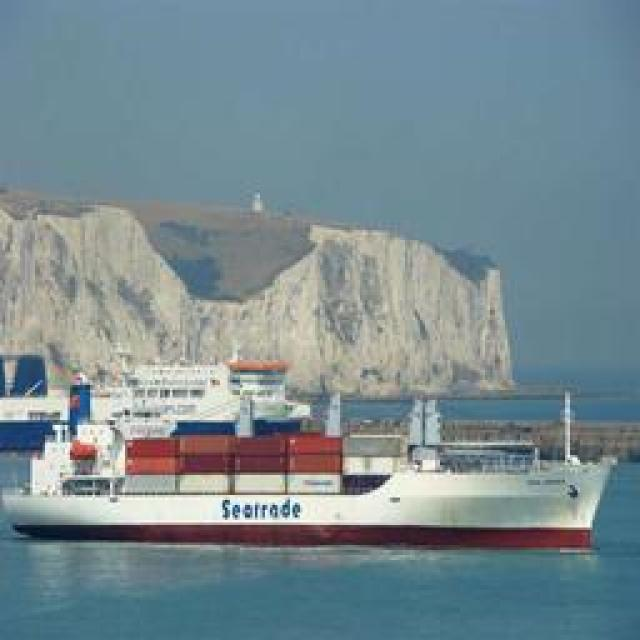CIV_Ship: (5, 377, 630, 545)
